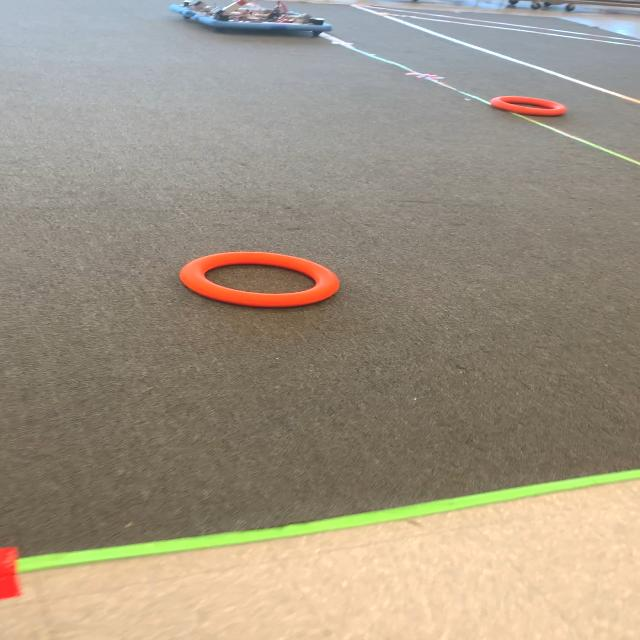notes: (182, 250, 342, 309), (492, 96, 568, 117)
